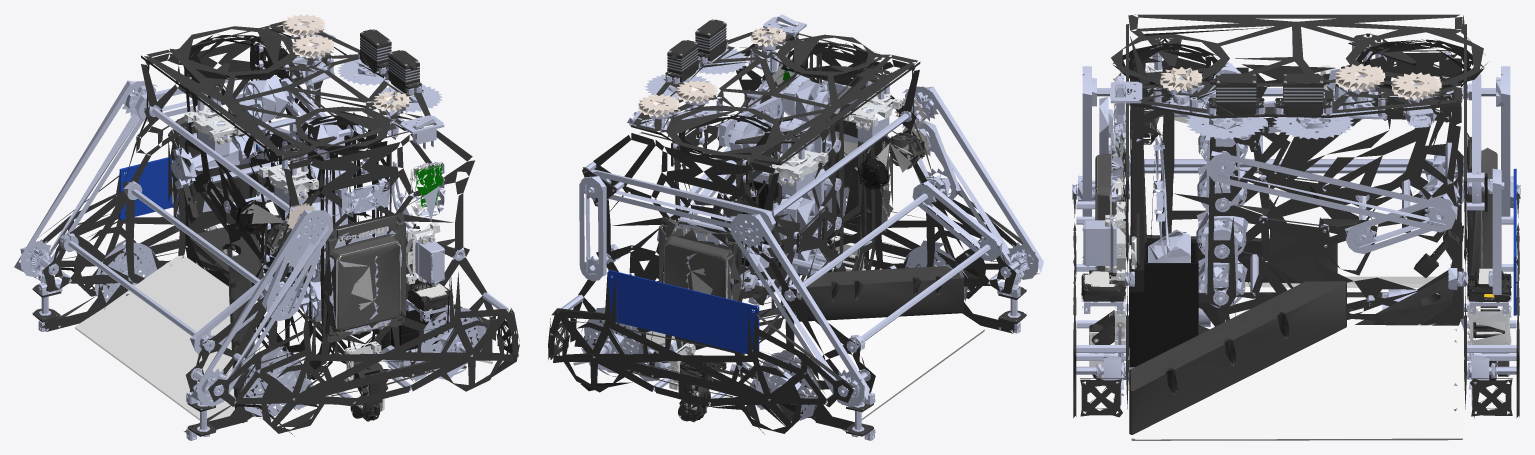
The picture shows the model from 3 angles, left to right: view 1: azimuth 30°, elevation 25°; view 2: azimuth 150°, elevation 25°; view 3: azimuth 270°, elevation 25°; orthographic projection. The views are drawn at different scales.
Visible parts, largest first — view 1: base; view 2: base; view 3: base.
Part boxes in pixels (x1=…): base: x1=14, y1=14, x2=519, y2=440; base: x1=548, y1=14, x2=1043, y2=440; base: x1=1072, y1=14, x2=1520, y2=440.
Bounding box in the file's own units: 0.4261 × 0.3806 × 0.4352.
